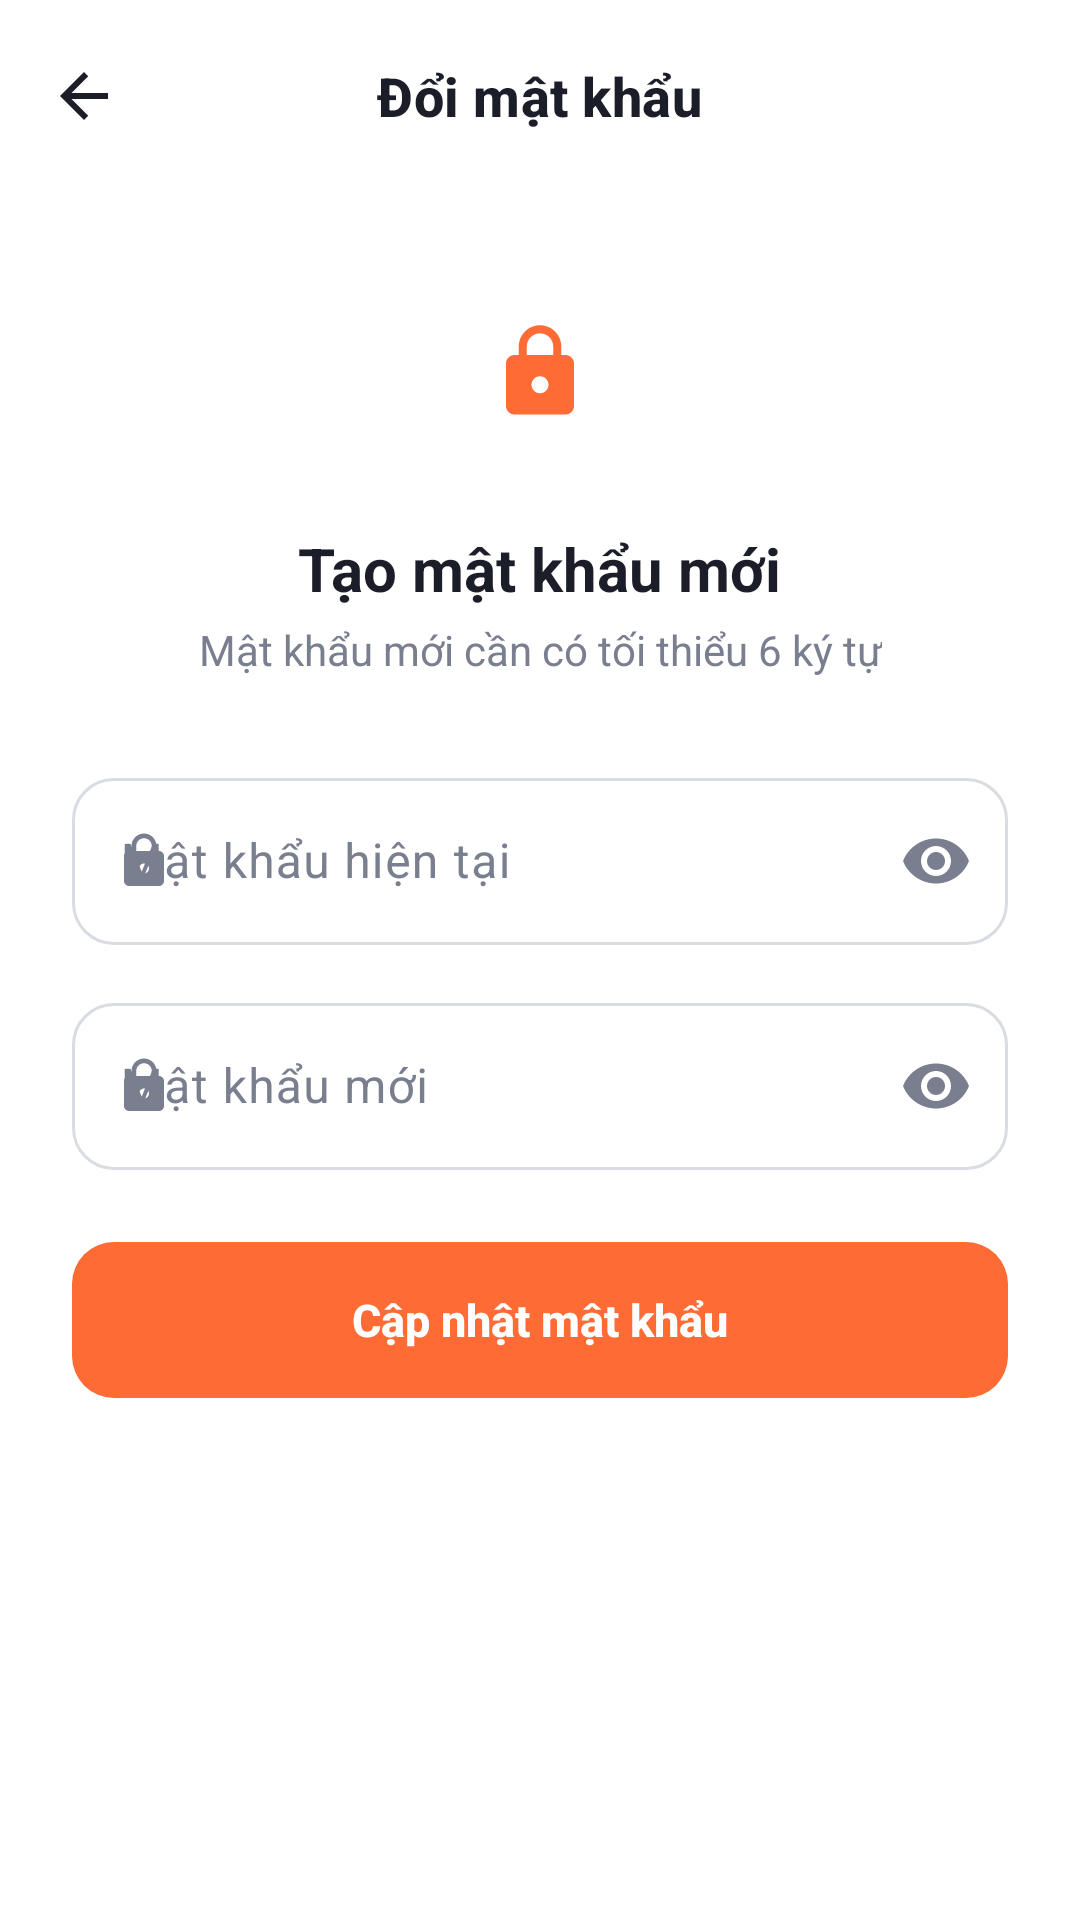

Locate icon controls on the screen. Image size 1080 x 1920, boxes as (x1, y1, x2, y2).
lock: (506, 325, 574, 415)
